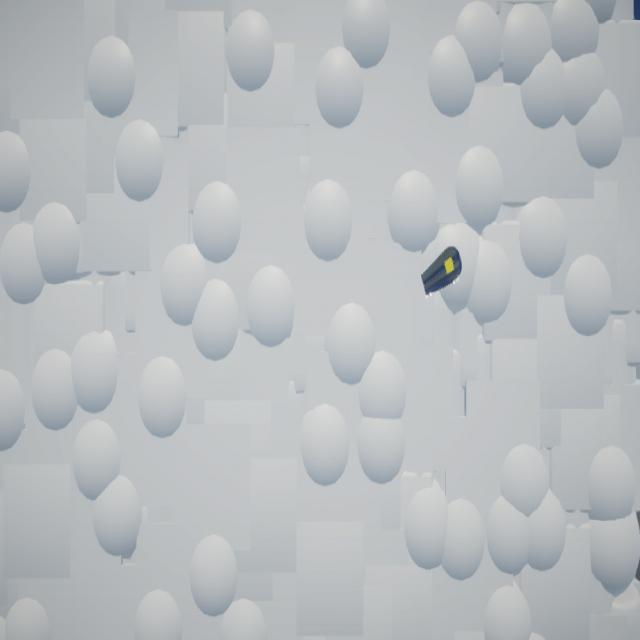handle_folk: (422, 247, 463, 297)
